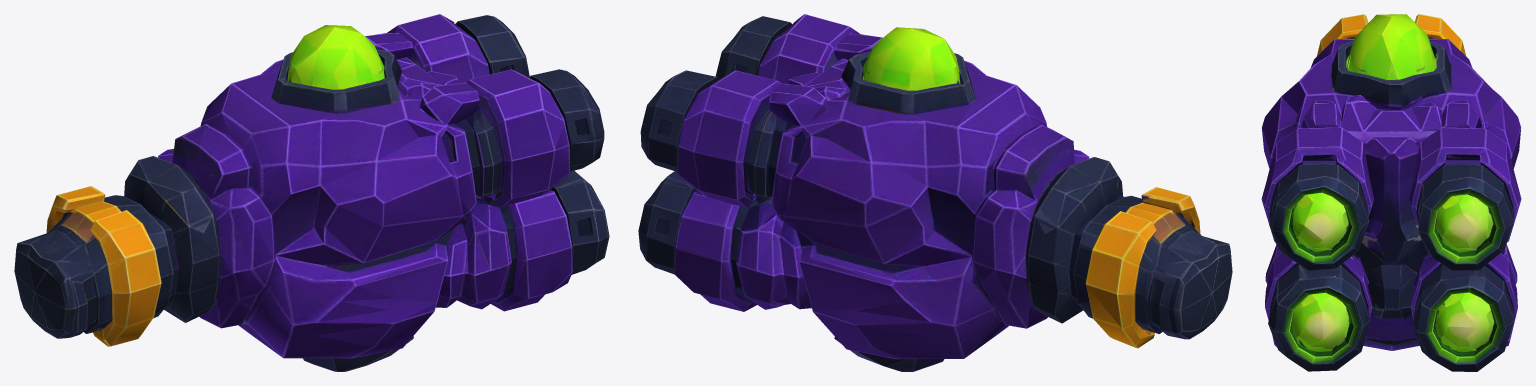
3 renders of one model, left to right at view 1: azimuth 30°, elevation 25°; view 2: azimuth 150°, elevation 25°; view 3: azimuth 270°, elevation 25°, orthographic. The views are drawn at different scales.
Visible parts, largest first — view 1: output_unwrapped; view 2: output_unwrapped; view 3: output_unwrapped.
Part boxes in pixels (bbox=[...]): output_unwrapped: bbox=[14, 14, 609, 371]; output_unwrapped: bbox=[638, 14, 1232, 371]; output_unwrapped: bbox=[1261, 14, 1521, 371].
Size of the model in its own units: 1.9 by 1.17 by 0.8433.
Materials: 1 (1 with a texture image).
